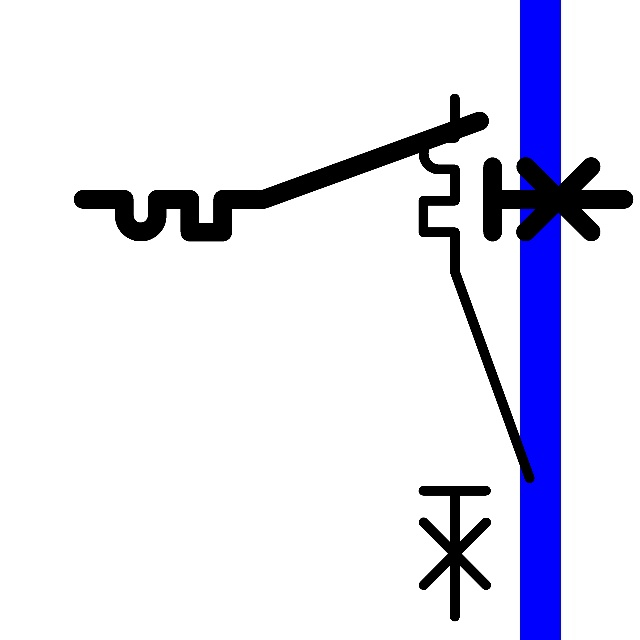interruptor_termomagnetico: (69, 107, 637, 246), (410, 85, 543, 630)
